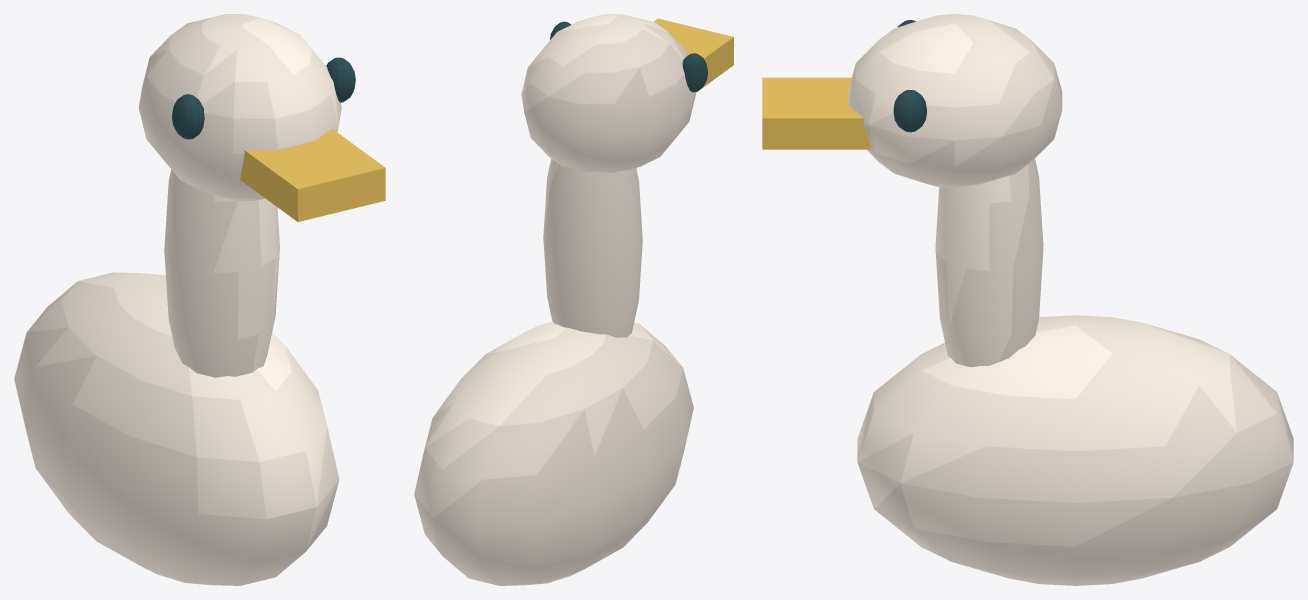
Rendered from goose.gltf.
3 renders of one model, left to right at view 1: azimuth 30°, elevation 25°; view 2: azimuth 150°, elevation 25°; view 3: azimuth 270°, elevation 25°, orthographic. The views are drawn at different scales.
Bounding box in the file's own units: 0.72 × 1.77 × 1.54.
1 material, 1 textured.
